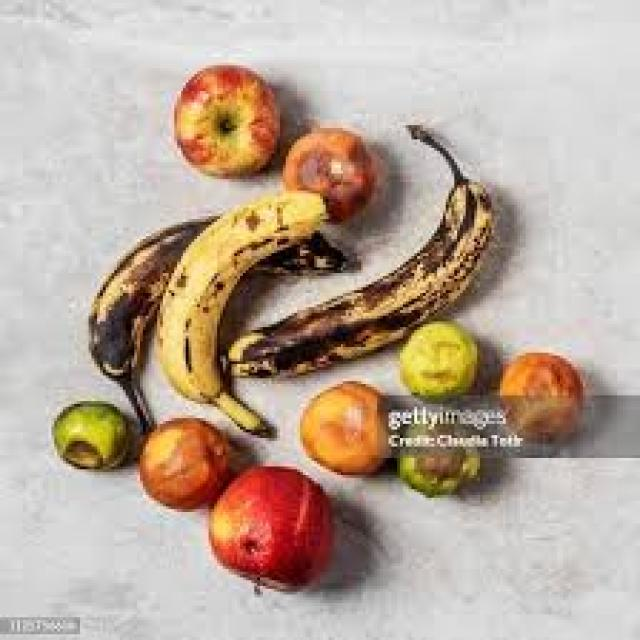apple: (209, 466, 329, 586), (174, 65, 280, 176), (143, 418, 238, 509)
banana: (229, 125, 489, 375), (157, 191, 326, 427), (91, 216, 214, 432)
